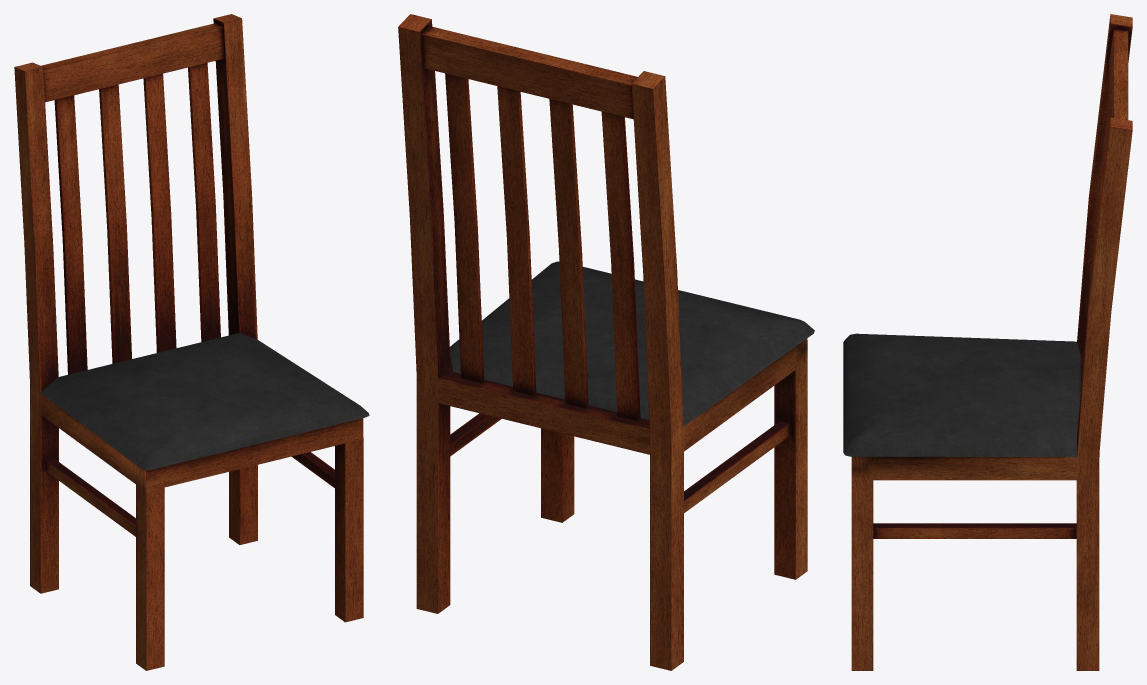
File: SM_Chair_01.glb
3 views of the same model, side by side, from view 1: azimuth 30°, elevation 25°; view 2: azimuth 150°, elevation 25°; view 3: azimuth 270°, elevation 25° (orthographic). The views are drawn at different scales.
Parts seen in each view (by area): view 1: SM_Chair_01; view 2: SM_Chair_01; view 3: SM_Chair_01.
Part boxes in pixels (x1,y1,x2,y2): SM_Chair_01: (14, 14, 369, 670); SM_Chair_01: (398, 14, 814, 670); SM_Chair_01: (843, 14, 1132, 670).
Bounding box in the file's own units: 0.5651 × 1.21 × 0.5838.
1 material, 1 textured.
